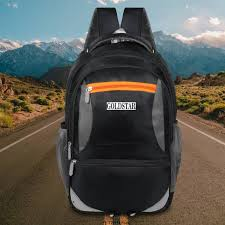backpack: (55, 6, 182, 224)
